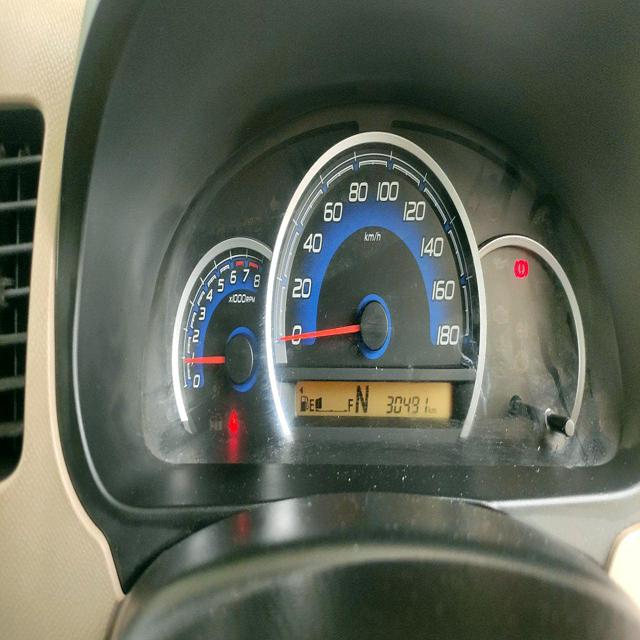odometer: (385, 392, 430, 416)
